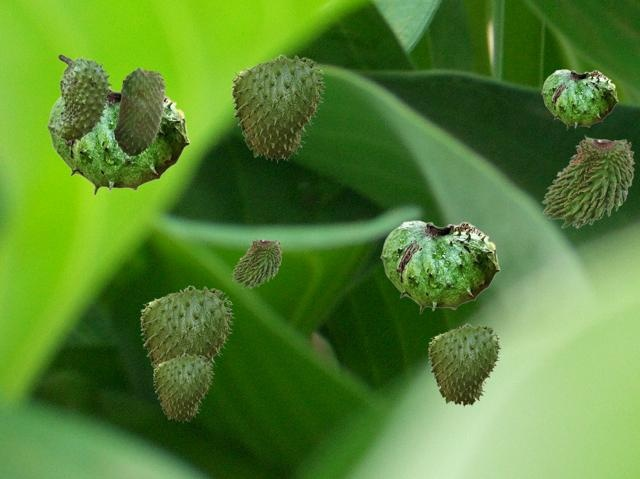guyabano: (46, 86, 189, 195), (380, 220, 499, 313), (231, 54, 325, 162), (541, 134, 634, 227), (140, 285, 234, 374), (428, 323, 501, 407), (52, 54, 113, 143), (113, 67, 165, 156), (541, 69, 617, 129), (153, 353, 213, 422), (231, 237, 281, 287)
